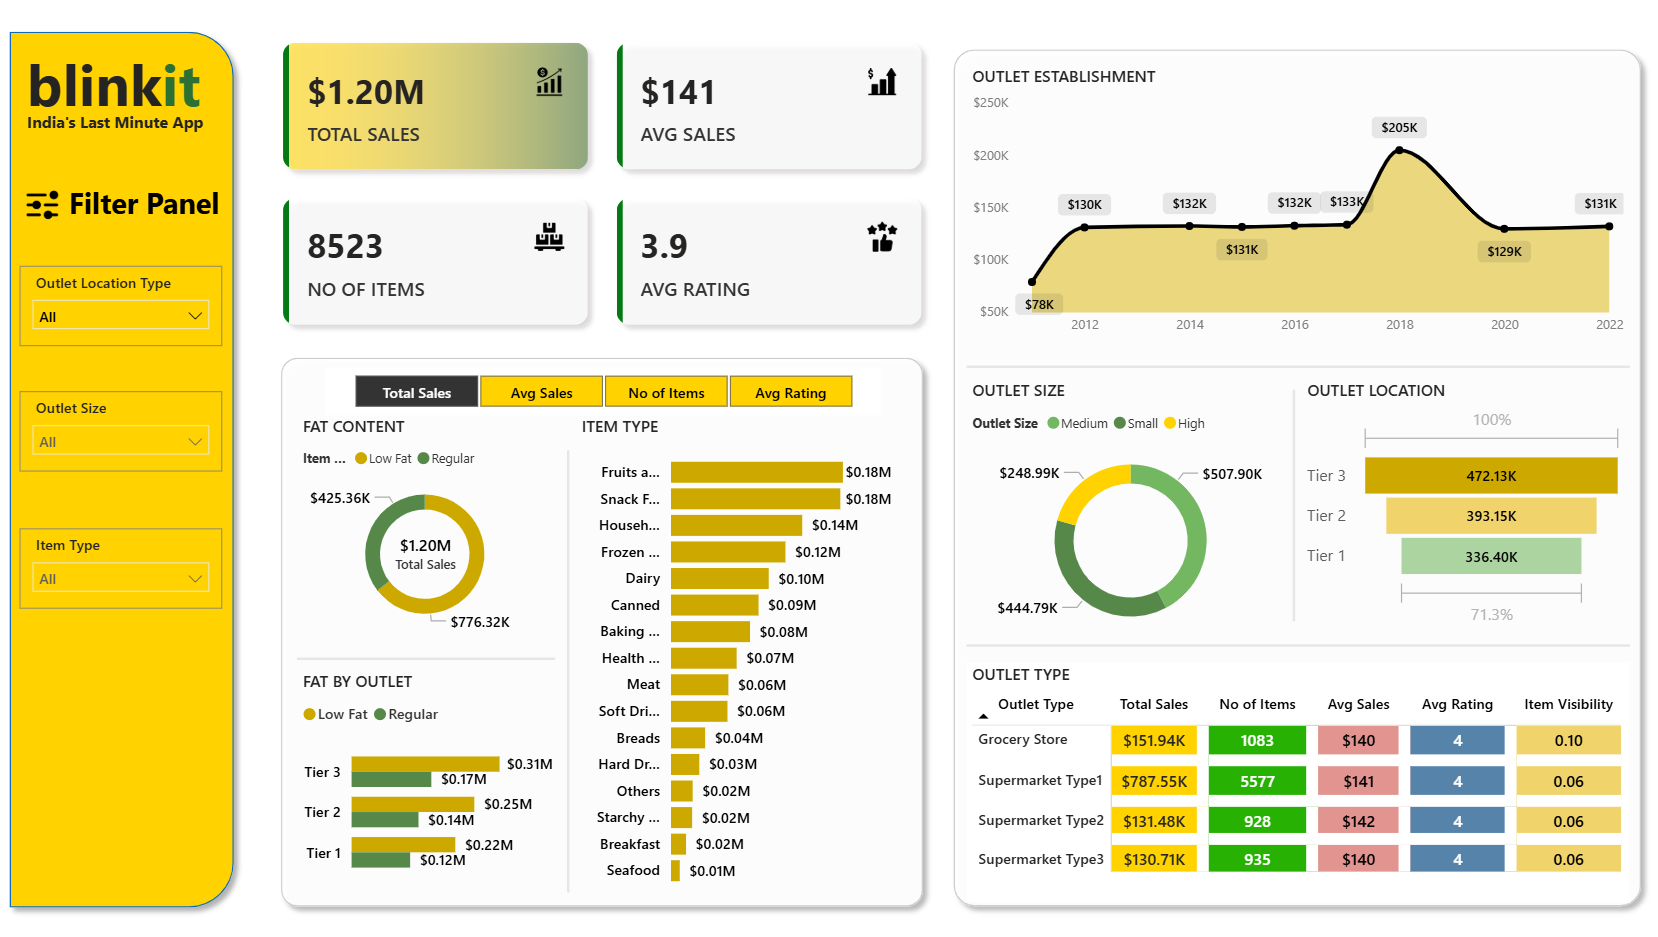

This screenshot's page, from the dashboard's own definition file:
{"tool":"powerbi","page":{"name":"Blinkit_Dashboard","canvas":[1400,800],"ordinal":0},"visuals":[{"type":"shape","box":[0,23.5,205.4,751],"z":0},{"type":"textbox","box":[19,38,169.5,88.2],"z":1000},{"type":"textbox","box":[19,93.4,172.9,32.9],"z":2000},{"type":"cardVisual","fields":{"Data":["BlinkIT Grocery Data.Total Sales","BlinkIT Grocery Data.Avg Sales","BlinkIT Grocery Data.No of Items","BlinkIT Grocery Data.Avg Rating"]},"box":[221.4,24.2,569,271.5],"z":3000},{"type":"shape","box":[226.6,295.7,555.2,477.3],"z":4000},{"type":"donutChart","title":"FAT CONTENT","fields":{"Category":["BlinkIT Grocery Data.Item Fat Content"],"Y":["BlinkIT Grocery Data.Total Sales"]},"box":[249,352.8,214.5,188.5],"z":5000},{"type":"slicer","fields":{"Values":["Metrics.Metrics"]},"box":[273.3,313,465.2,39.8],"z":6000},{"type":"cardVisual","fields":{"Data":["BlinkIT Grocery Data.Total Sales"]},"box":[297.5,435.8,119.3,65.7],"z":7000},{"type":"clusteredBarChart","title":"FAT BY OUTLET","fields":{"Category":["BlinkIT Grocery Data.Outlet Location Type"],"Series":["BlinkIT Grocery Data.Item Fat Content"],"Y":["BlinkIT Grocery Data.Total Sales"]},"box":[249,567.3,219.6,185.1],"z":8000},{"type":"shape","box":[249,546.5,216.2,20.8],"z":9000},{"type":"shape","box":[470.4,382.2,12.1,370.1],"z":10000},{"type":"barChart","title":"ITEM TYPE","fields":{"Category":["BlinkIT Grocery Data.Item Type"],"Y":["BlinkIT Grocery Data.Total Sales"]},"box":[482.5,352.8,269.8,404.7],"z":11000},{"type":"shape","box":[790.4,38,593.2,735],"z":12000},{"type":"lineChart","title":"OUTLET ESTABLISHMENT","fields":{"Category":["BlinkIT Grocery Data.Outlet Establishment Year"],"Y":["BlinkIT Grocery Data.Total Sales"]},"box":[809.4,60.5,555.2,235.2],"z":13000},{"type":"shape","box":[809.4,302.7,555.2,20.8],"z":14000},{"type":"donutChart","title":"OUTLET SIZE","fields":{"Category":["BlinkIT Grocery Data.Outlet Size"],"Y":["BlinkIT Grocery Data.Total Sales"]},"box":[809.4,323.4,275,225],"z":15000},{"type":"shape","box":[1077.5,332.1,12.1,193.7],"z":16000},{"type":"funnel","title":"OUTLET LOCATION","fields":{"Category":["BlinkIT Grocery Data.Outlet Location Type"],"Y":["Sum(BlinkIT Grocery Data.Sales)"]},"box":[1089.6,323.4,275,211],"z":17000},{"type":"shape","box":[809.4,536.1,555.2,20.8],"z":18000},{"type":"pivotTable","title":"OUTLET TYPE","fields":{"Rows":["BlinkIT Grocery Data.Outlet Type"],"Values":["BlinkIT Grocery Data.Total Sales","BlinkIT Grocery Data.No of Items","BlinkIT Grocery Data.Avg Sales","BlinkIT Grocery Data.Avg Rating","Avg(BlinkIT Grocery Data.Item Visibility)"]},"box":[809.4,560.4,555.2,200.6],"z":19000},{"type":"slicer","fields":{"Values":["BlinkIT Grocery Data.Outlet Location Type"]},"box":[17.3,228.3,169.5,67.5],"z":20000},{"type":"slicer","fields":{"Values":["BlinkIT Grocery Data.Outlet Size"]},"box":[17.3,333.8,169.5,67.5],"z":21000},{"type":"slicer","fields":{"Values":["BlinkIT Grocery Data.Item Type"]},"box":[17.3,447.9,169.5,67.5],"z":22000},{"type":"textbox","box":[50.2,153.9,141.8,46.7],"z":22001},{"type":"image","box":[17.3,153.9,38,46.7],"z":22002}]}

Visuals, with their boxes in screenshot pixels (x1, y1, x2, y2), scaled from the page's 1400x800 canvas onto the 1658x937 screenshot:
shape: bbox=(0, 28, 243, 907)
textbox: bbox=(23, 45, 223, 148)
textbox: bbox=(23, 109, 227, 148)
cardVisual - BlinkIT Grocery Data.Total Sales x BlinkIT Grocery Data.Avg Sales: bbox=(262, 28, 936, 346)
shape: bbox=(268, 346, 926, 905)
"FAT CONTENT" donutChart: bbox=(295, 413, 549, 634)
slicer - Metrics.Metrics: bbox=(324, 367, 875, 413)
cardVisual - BlinkIT Grocery Data.Total Sales: bbox=(352, 510, 494, 587)
"FAT BY OUTLET" clusteredBarChart: bbox=(295, 664, 555, 881)
shape: bbox=(295, 640, 551, 664)
shape: bbox=(557, 448, 571, 881)
"ITEM TYPE" barChart: bbox=(571, 413, 891, 887)
shape: bbox=(936, 45, 1639, 905)
"OUTLET ESTABLISHMENT" lineChart: bbox=(959, 71, 1616, 346)
shape: bbox=(959, 355, 1616, 379)
"OUTLET SIZE" donutChart: bbox=(959, 379, 1284, 642)
shape: bbox=(1276, 389, 1290, 616)
"OUTLET LOCATION" funnel: bbox=(1290, 379, 1616, 626)
shape: bbox=(959, 628, 1616, 652)
"OUTLET TYPE" pivotTable: bbox=(959, 656, 1616, 891)
slicer - BlinkIT Grocery Data.Outlet Location Type: bbox=(20, 267, 221, 346)
slicer - BlinkIT Grocery Data.Outlet Size: bbox=(20, 391, 221, 470)
slicer - BlinkIT Grocery Data.Item Type: bbox=(20, 525, 221, 604)
textbox: bbox=(59, 180, 227, 235)
image: bbox=(20, 180, 65, 235)
